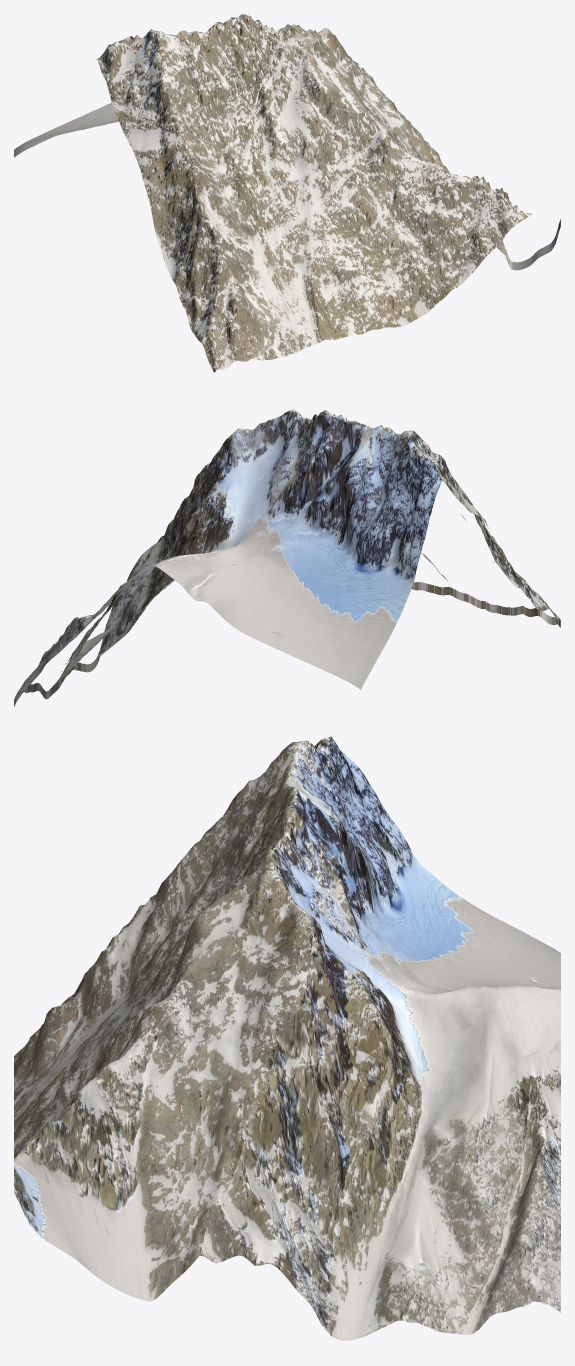
The model's file is dufourspitze_near_low.glb.
3 renders of one model, top to bottom at view 1: azimuth 30°, elevation 25°; view 2: azimuth 150°, elevation 25°; view 3: azimuth 270°, elevation 25°, orthographic. The views are drawn at different scales.
Parts seen in each view (by area): view 1: terrain; view 2: terrain; view 3: terrain.
Boxes of the visible parts, box(x1,y1,x2,y2) form: terrain: box(14, 14, 560, 372); terrain: box(14, 409, 560, 706); terrain: box(14, 736, 560, 1340).
Bounding box in the file's own units: 360 × 298 × 360.
1 material, 1 textured.
